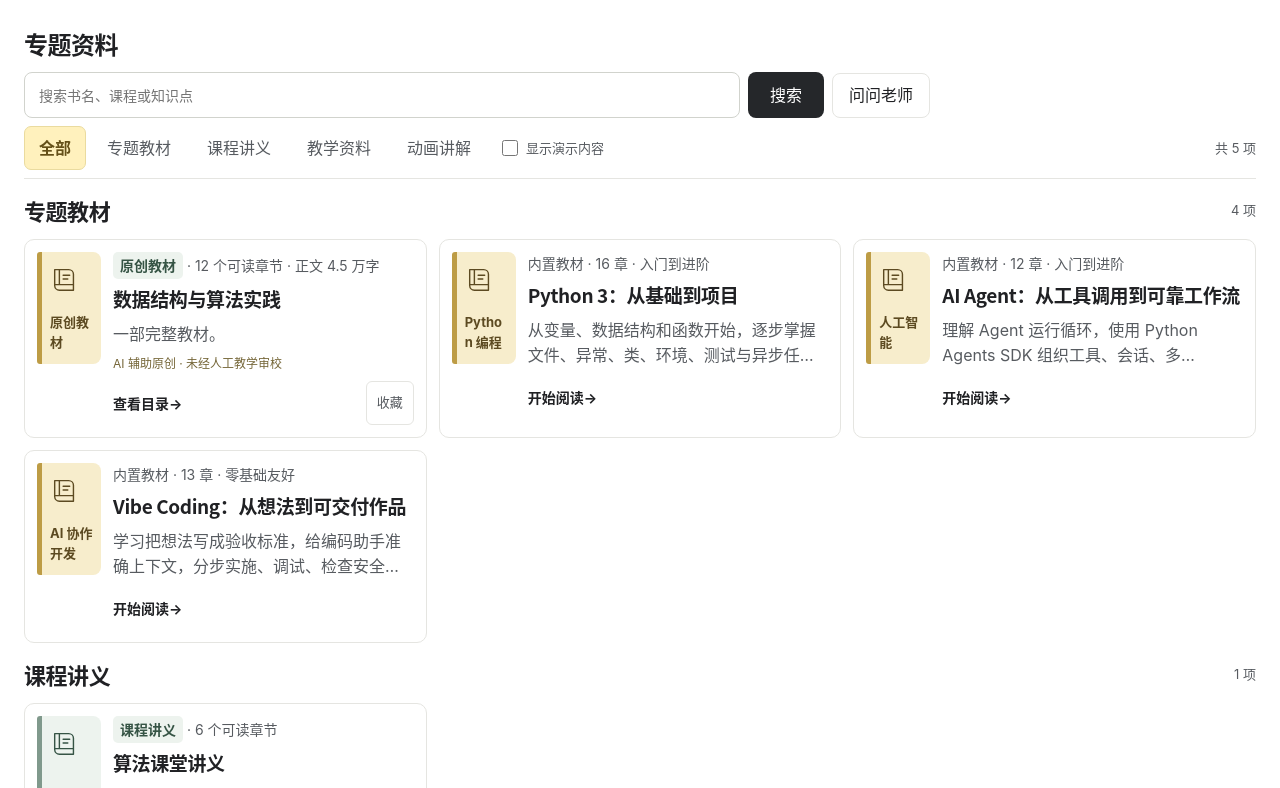
reading library › classifies imported textbooks separately from lectures and keeps their real chapter counts
The image size is (1280, 788).
Expected: the text "原创教材 · 12 个可读章节 · 正文 4.5 万字" is shown, [113,252,414,279]
Click the button "课程讲义" at coordinates (239, 148), box [192,126,286,170]
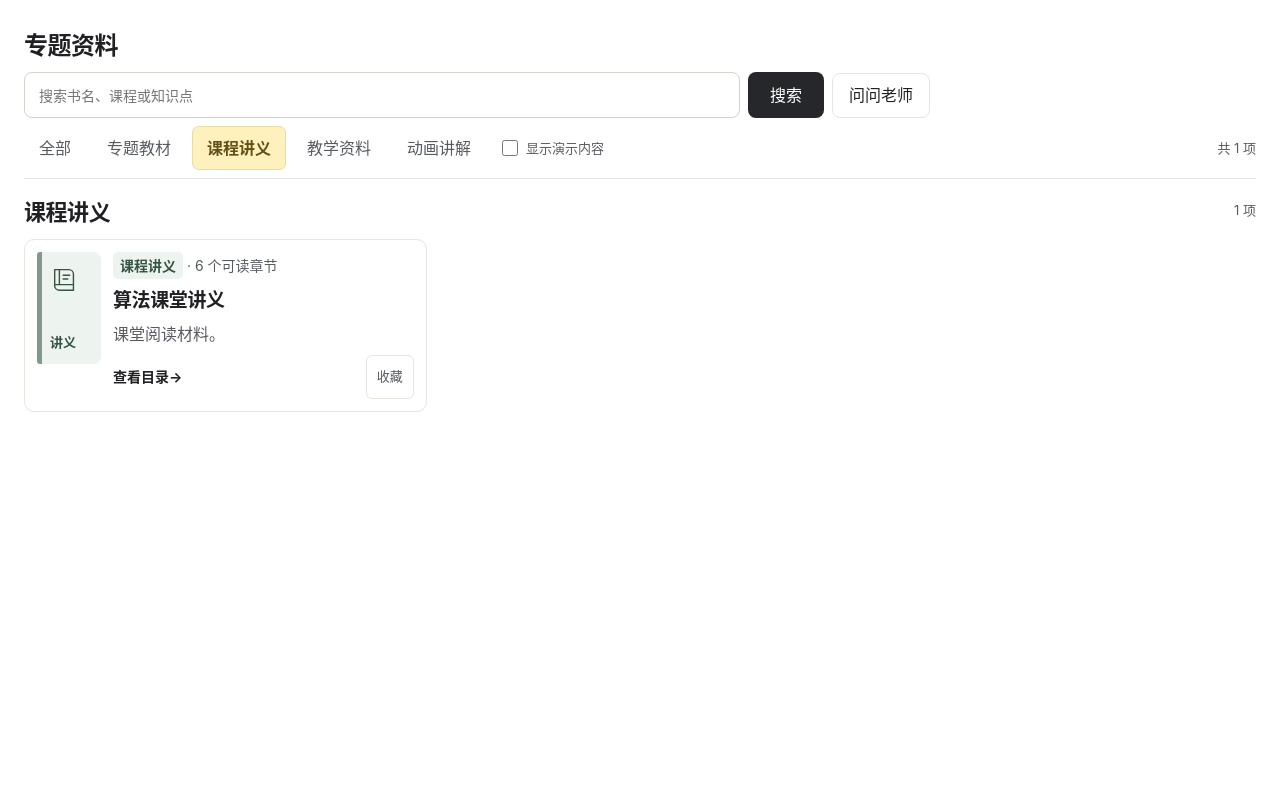
Expected: the heading "算法课堂讲义" is shown, [113,285,225,312]
Now the link "数据结构与算法实践" is gone
Click the button "专题教材" at coordinates (139, 148), box [92,126,186,170]
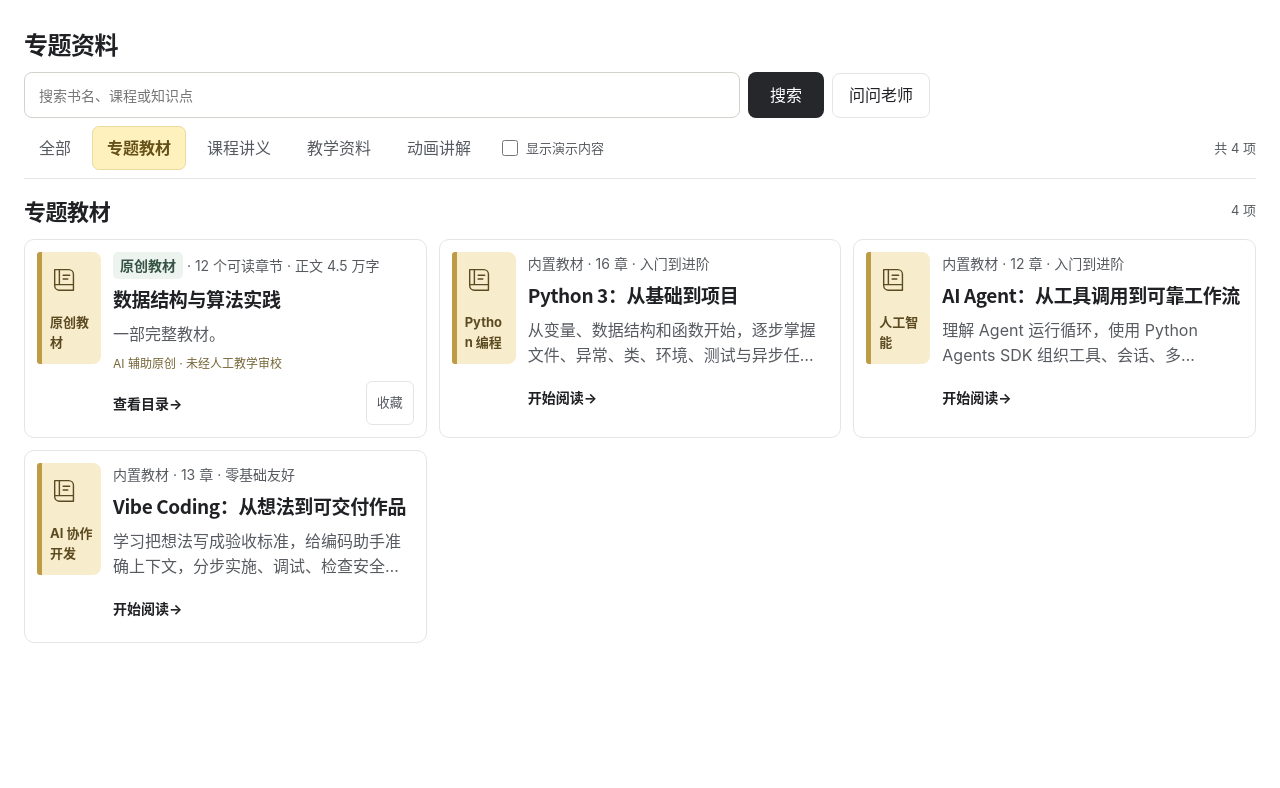
Now the link "算法课堂讲义" is gone
Now the heading "数据结构与算法实践" is shown, box [113,285,281,312]
